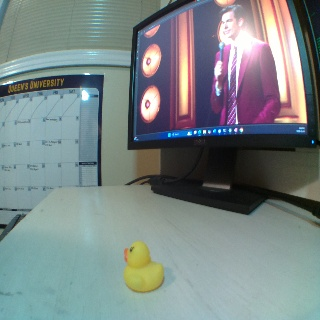duck_regular: (121, 240, 162, 292)
